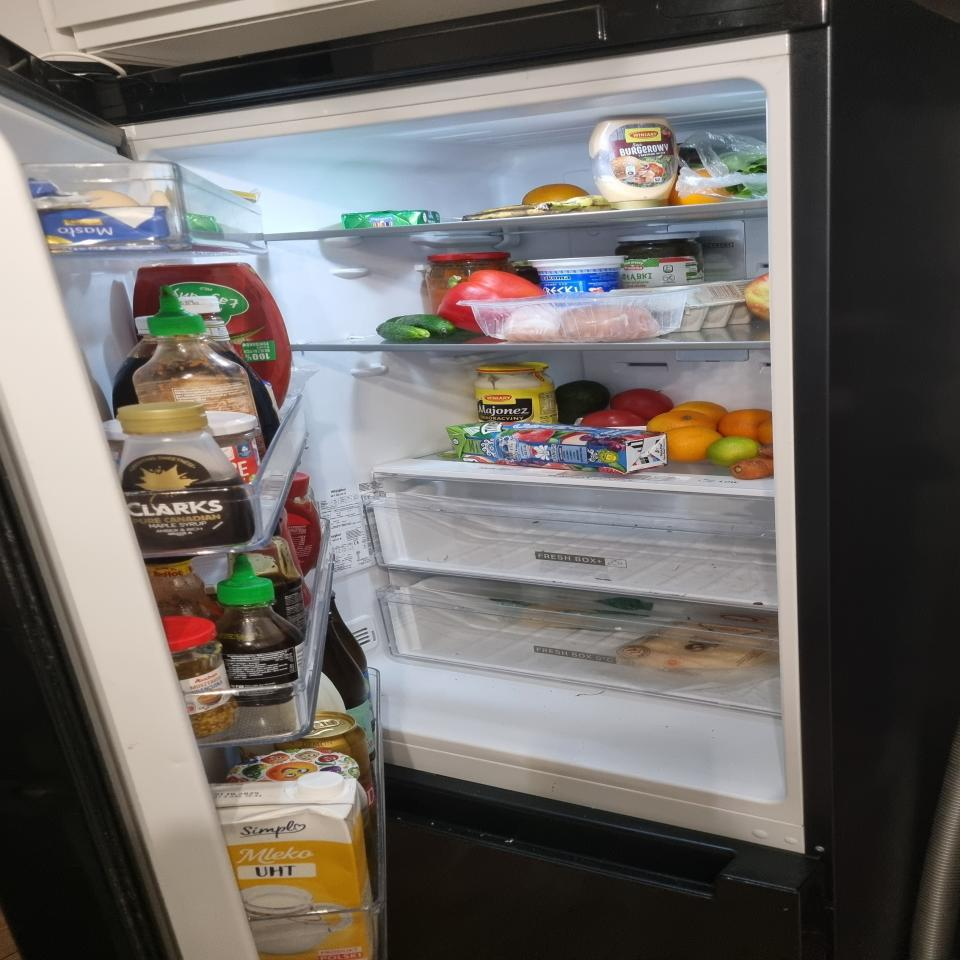Aguacate: (554, 380, 608, 424)
Carne pollo: (470, 296, 680, 339)
Huevos: (618, 280, 755, 330), (79, 190, 175, 207)
Leche: (204, 774, 379, 960)
Mantequilla: (26, 182, 179, 253), (343, 210, 439, 228)
Manzana: (744, 273, 770, 321)
Pepino: (376, 313, 452, 340)
Plátano: (461, 195, 611, 222)
Queso: (614, 621, 776, 667), (518, 603, 599, 629)
Tomate: (612, 388, 675, 420), (580, 410, 647, 428)
Yogur: (526, 254, 632, 296)
Zanahoria: (730, 457, 778, 480)
bell pepper: (439, 271, 543, 328)
ketchup: (133, 262, 292, 410), (281, 472, 320, 578)
lime: (712, 439, 759, 465)
mayonnaise: (470, 363, 559, 427)
orange: (648, 398, 775, 462), (526, 184, 590, 204)
